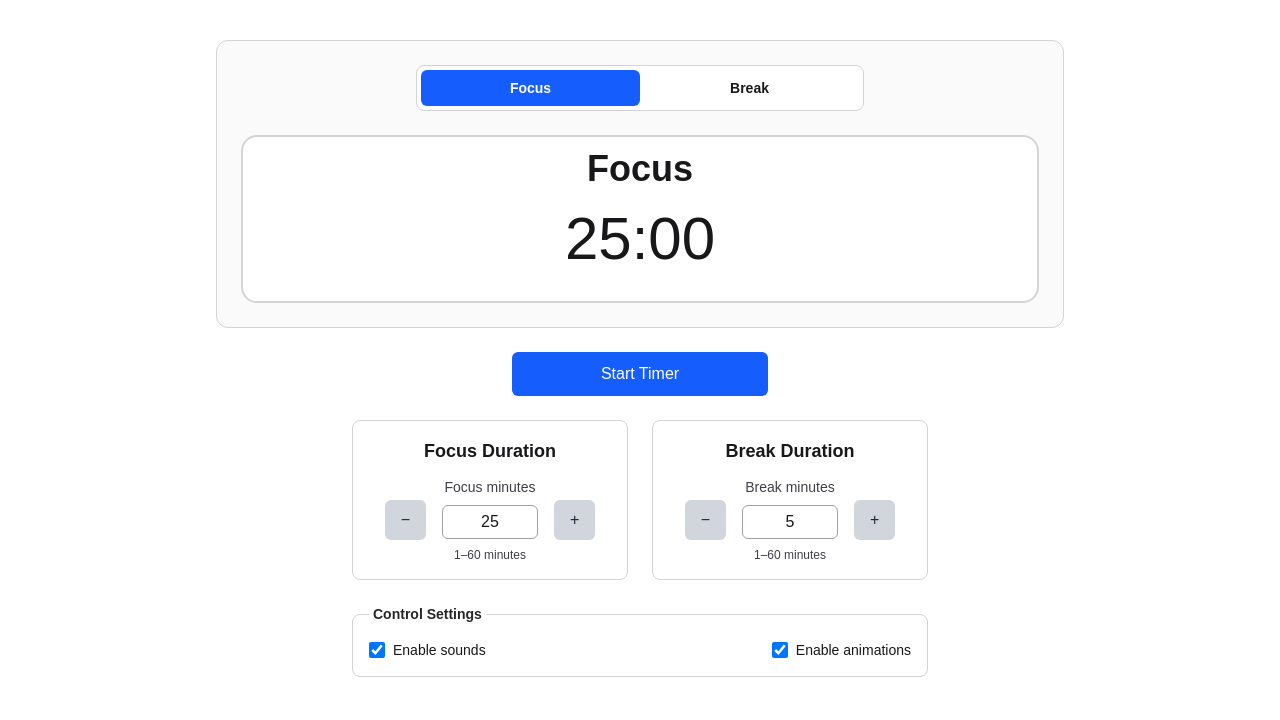
it: PomodoroTimer › pauses countdown and resumes from remaining time
Click the button "Start Timer".
click(640, 374)  # box [512,352,768,396]
Wait 2000 ms
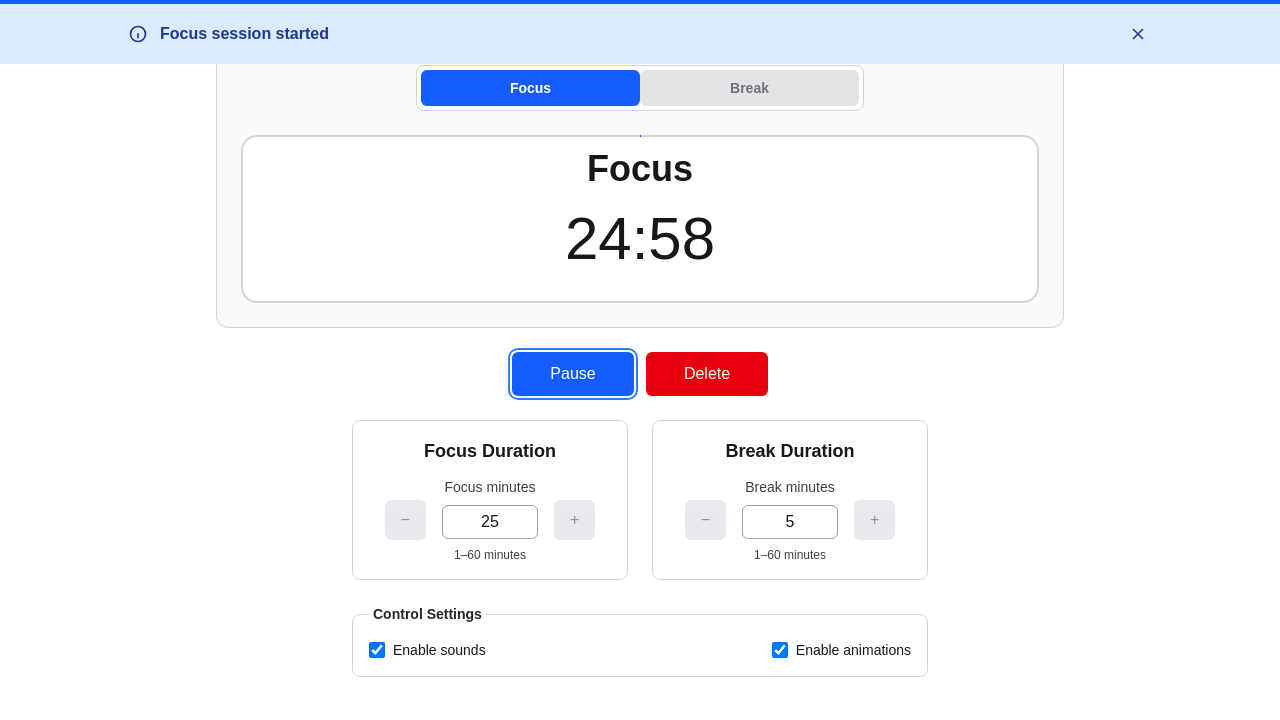
Result: the text "24:58" is shown at [565,205,715,272]
Click the button "Pause".
click(573, 374)  # box [512,352,634,396]
Wait 2000 ms
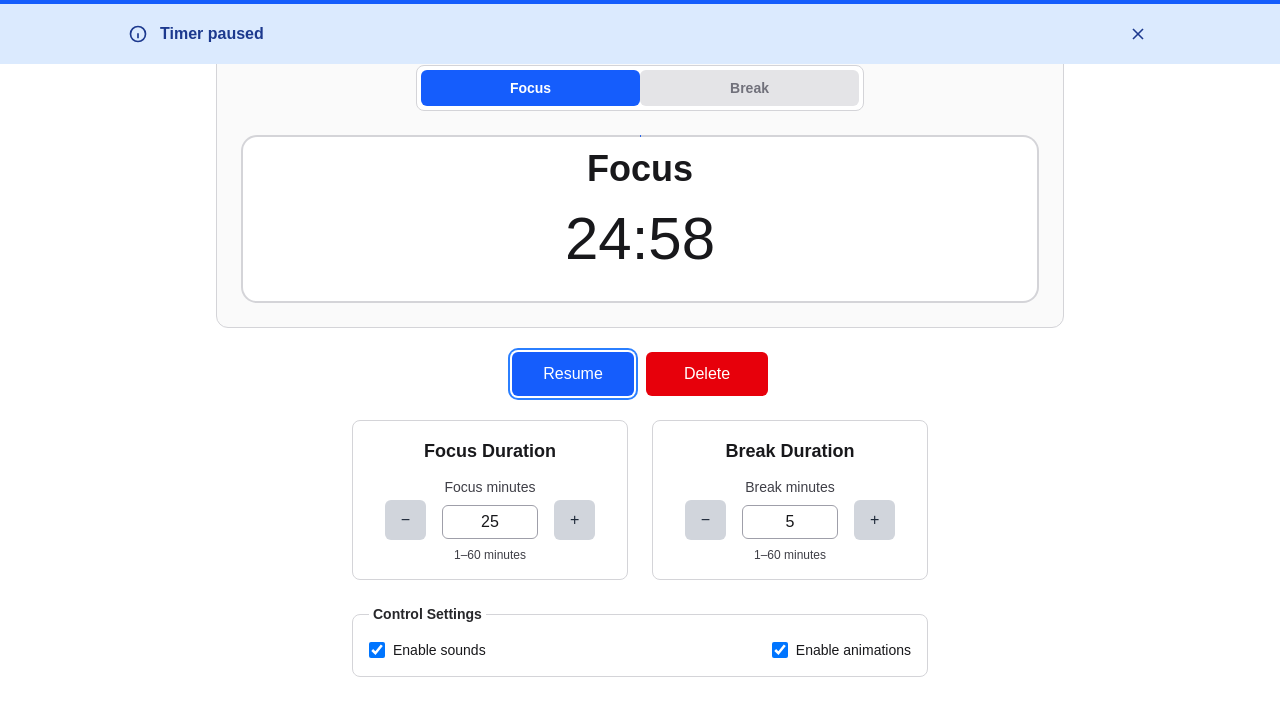
Result: the text "24:58" is shown at [565,205,715,272]
Click the button "Resume".
click(573, 374)  # box [512,352,634,396]
Wait 1000 ms
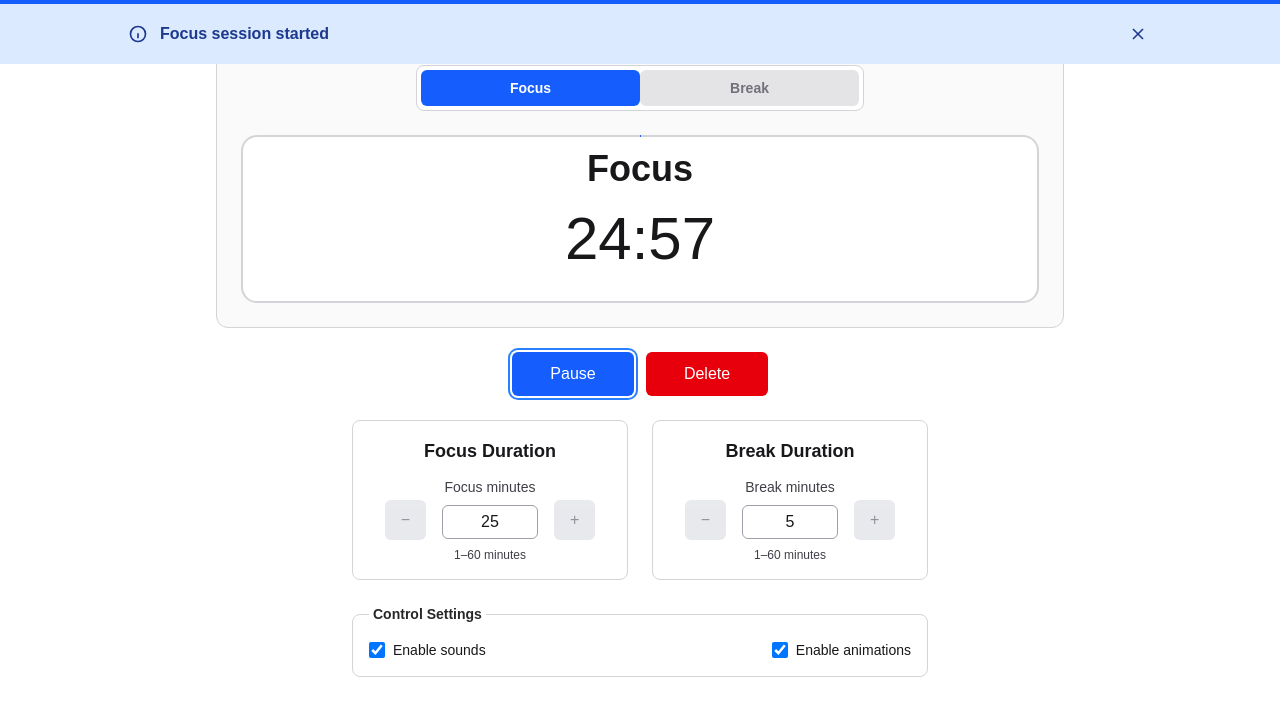
Result: the text "24:57" is shown at [565,205,715,272]
